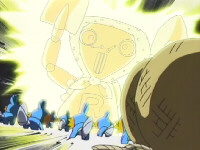mudkip: (16, 100, 52, 132), (68, 102, 95, 141), (1, 94, 22, 127), (95, 110, 115, 139), (54, 111, 73, 133)
